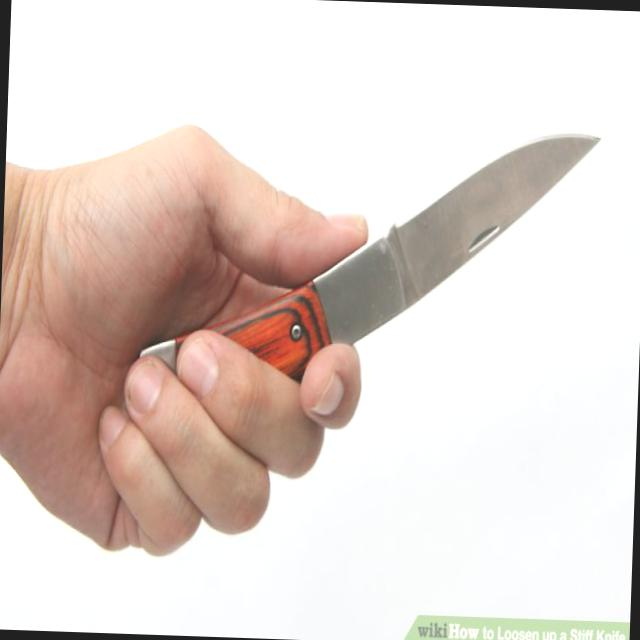knife: (88, 103, 612, 499)
